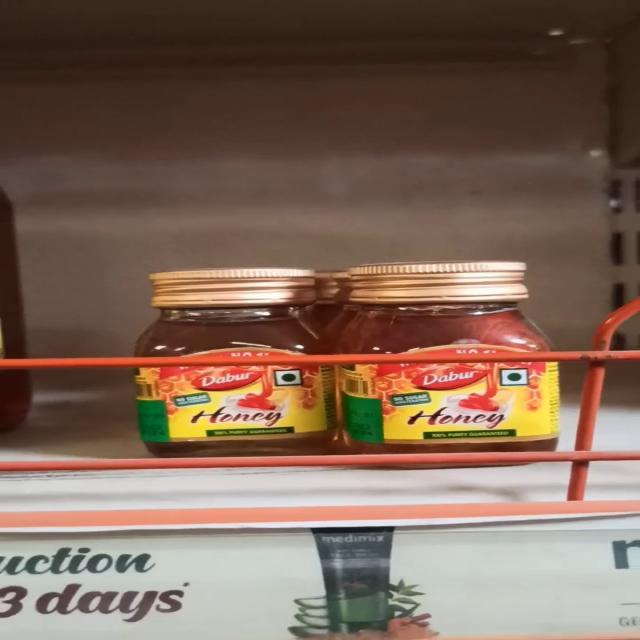Dabur Honey: (348, 268, 564, 450), (137, 266, 336, 447)
